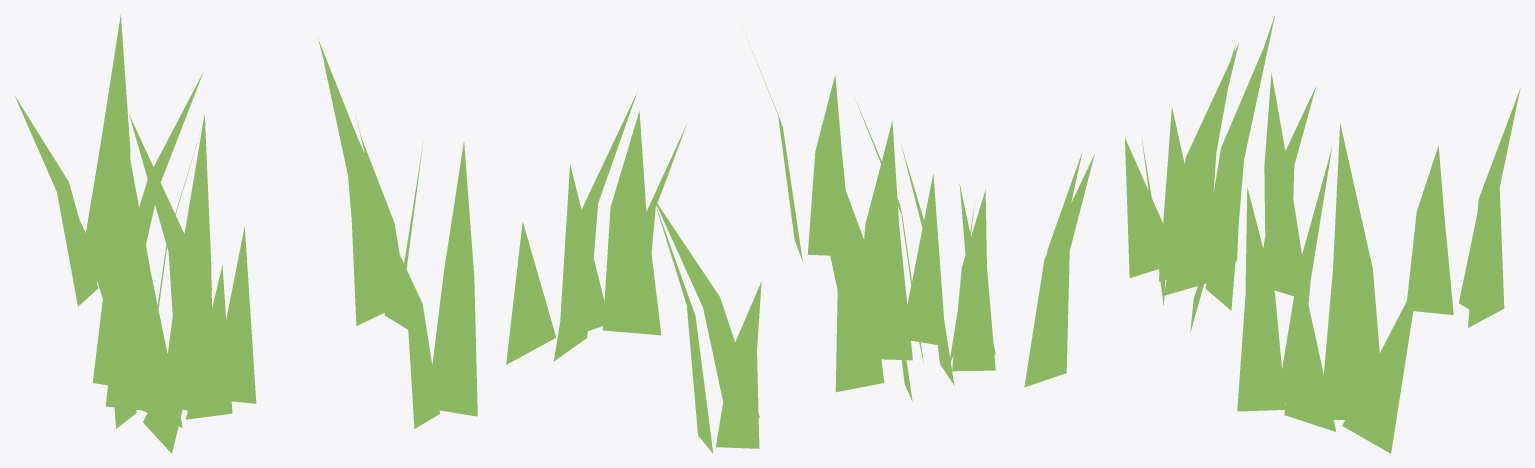
Rendered from Grass_a_OneS_07.fbx.
3 renders of one model, left to right at view 1: azimuth 30°, elevation 25°; view 2: azimuth 150°, elevation 25°; view 3: azimuth 270°, elevation 25°, orthographic.
Parts seen in each view (by area): view 1: Grass_a_OneS_07; view 2: Grass_a_OneS_07; view 3: Grass_a_OneS_07.
Boxes of the visible parts, box(x1,y1,x2,y2) form: Grass_a_OneS_07: box(15, 14, 477, 453); Grass_a_OneS_07: box(506, 43, 995, 453); Grass_a_OneS_07: box(1024, 16, 1520, 453).
Bounding box in the file's own units: 1 × 0.6734 × 1.08.
